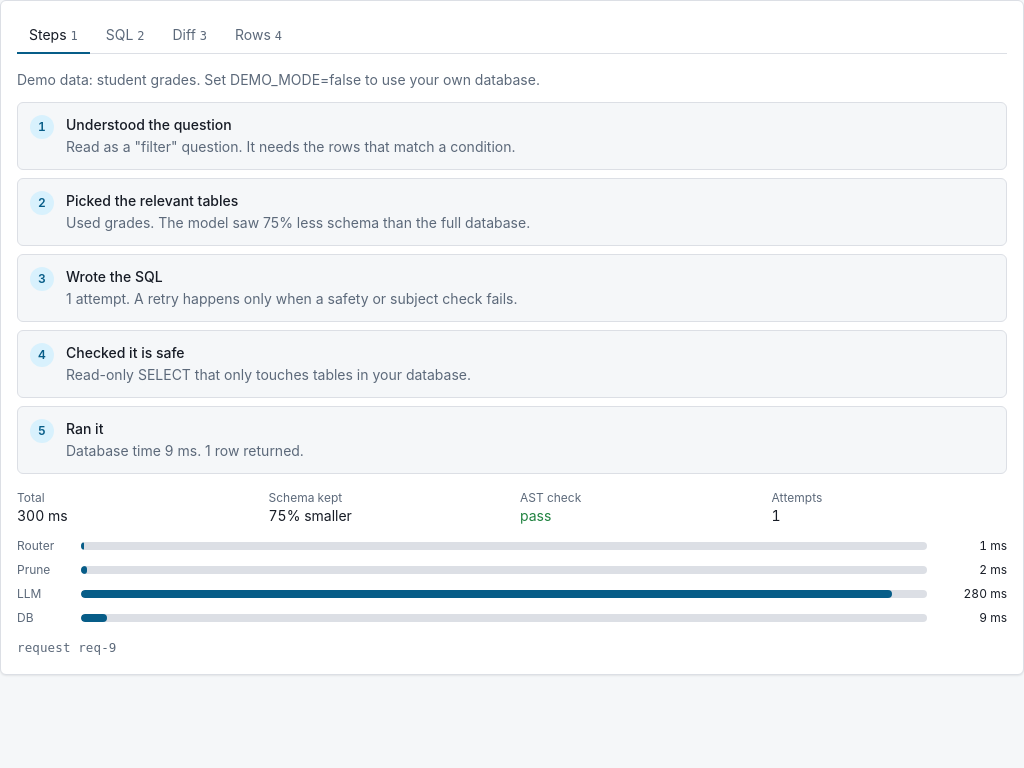
Test: ExecutionPanel › opens on the Steps tab and switches to SQL on click
The image size is (1024, 768).
Check: the text "Understood the question" is shown, box [66,116,232,133]
Click the tab "SQL 2": (125, 35) [94,17,156,53]
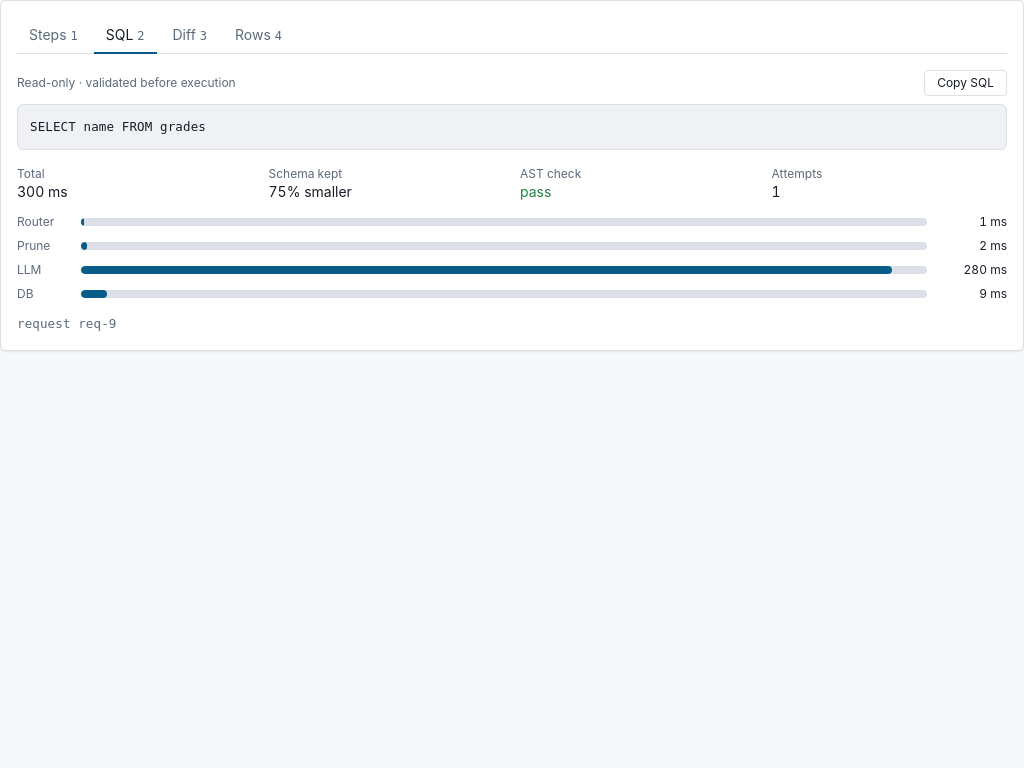
Check: the text named "generated sql" reads "SELECT name FROM grades", box [30,119,206,134]
